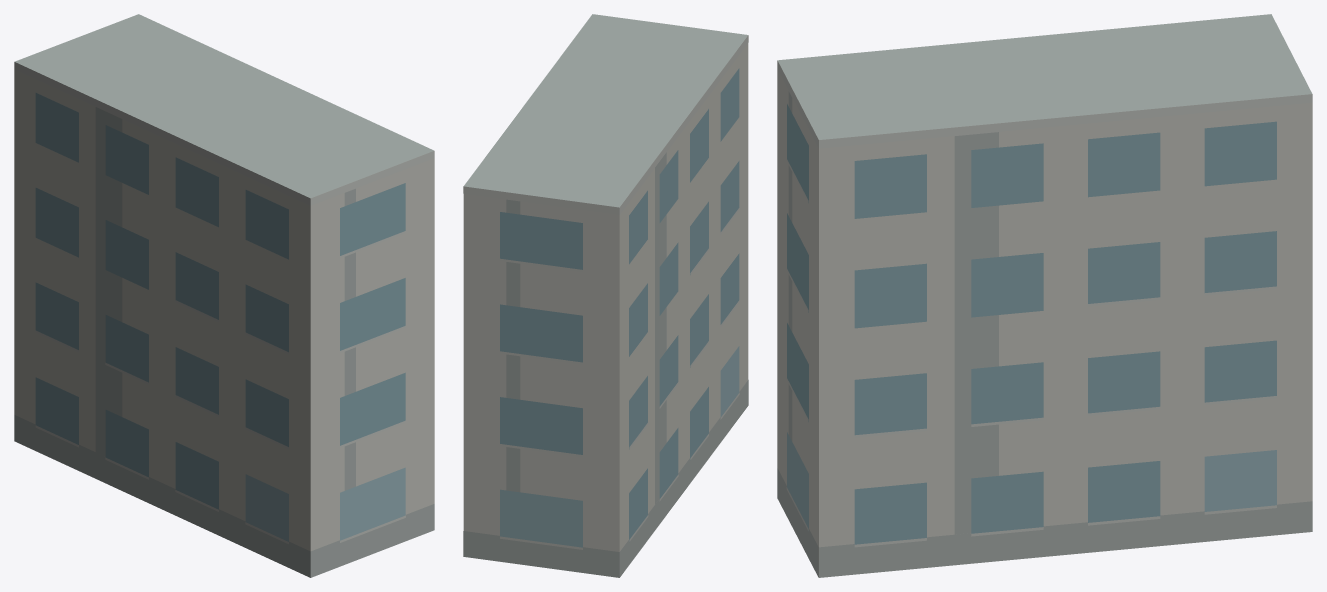
Rendered from residential-67d7b192-b8f6-460b-a0d1-30a8829be706.glb.
3 views of the same model, side by side, from view 1: azimuth 30°, elevation 25°; view 2: azimuth 150°, elevation 25°; view 3: azimuth 270°, elevation 25° (orthographic). The views are drawn at different scales.
Parts seen in each view (by area): view 1: residential-67d7b192-b8f6-460b-a0d1-30a8829be706.tmp; view 2: residential-67d7b192-b8f6-460b-a0d1-30a8829be706.tmp; view 3: residential-67d7b192-b8f6-460b-a0d1-30a8829be706.tmp.
Part boxes in pixels (bbox=[...]): residential-67d7b192-b8f6-460b-a0d1-30a8829be706.tmp: bbox=[14, 14, 434, 577]; residential-67d7b192-b8f6-460b-a0d1-30a8829be706.tmp: bbox=[463, 14, 748, 577]; residential-67d7b192-b8f6-460b-a0d1-30a8829be706.tmp: bbox=[777, 14, 1312, 577].
Bounding box in the file's own units: 7.55 × 12.2 × 13.53.
